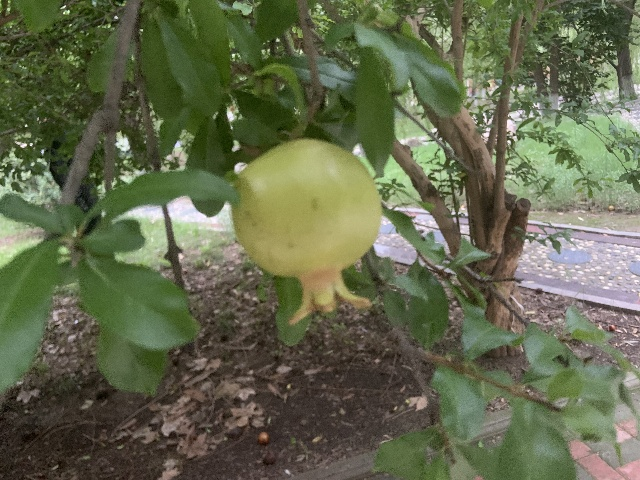mid-growth: (230, 138, 382, 326)
